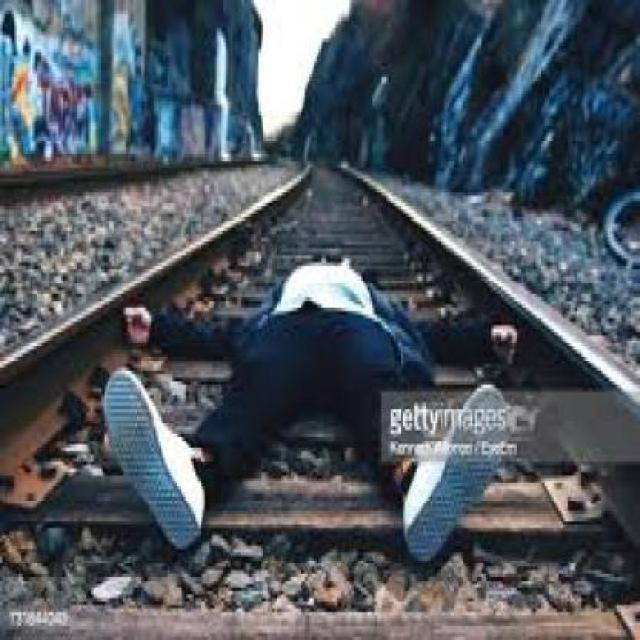danger: (99, 245, 527, 568)
rail: (0, 150, 638, 637)
